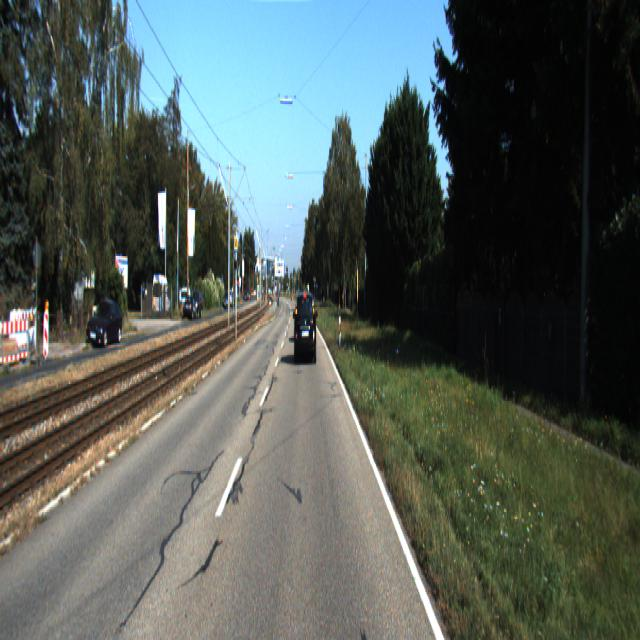Car: (88, 300, 122, 350), (295, 290, 317, 364), (152, 275, 172, 319), (183, 294, 199, 320)
